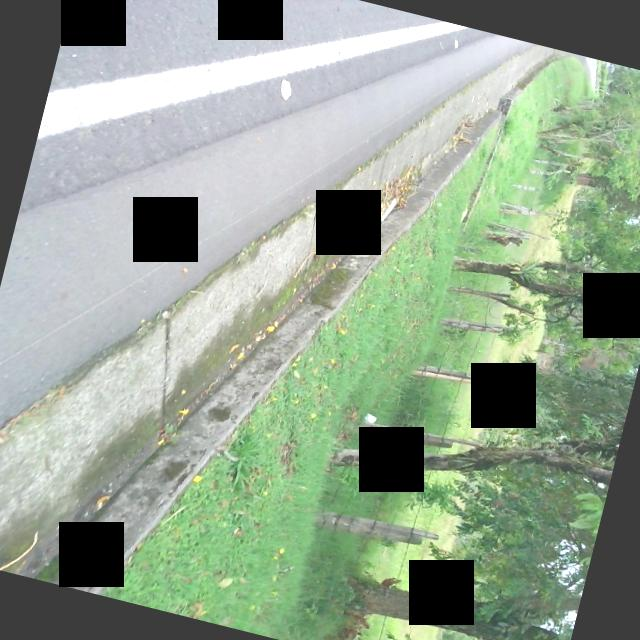DITCH: (0, 0, 607, 640), (0, 0, 600, 640)
